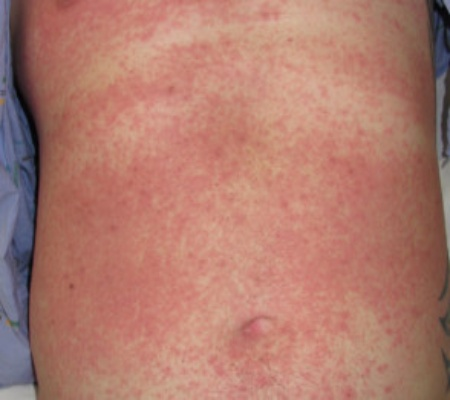SJS-TEN: (12, 0, 450, 400)
